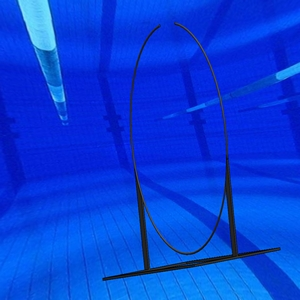circle: (101, 21, 282, 283)
